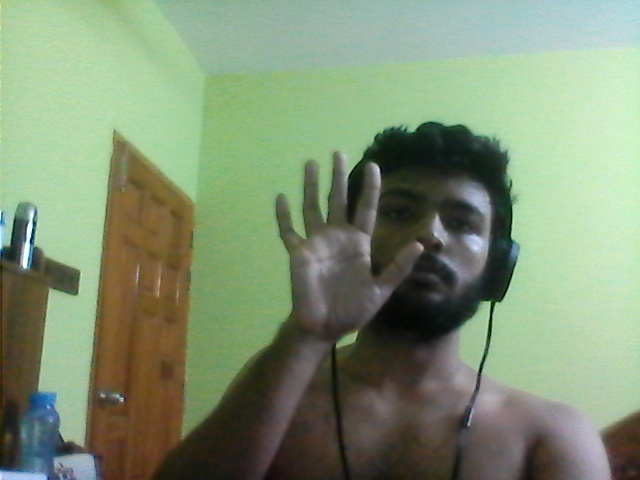Hello: (277, 153, 425, 335)
